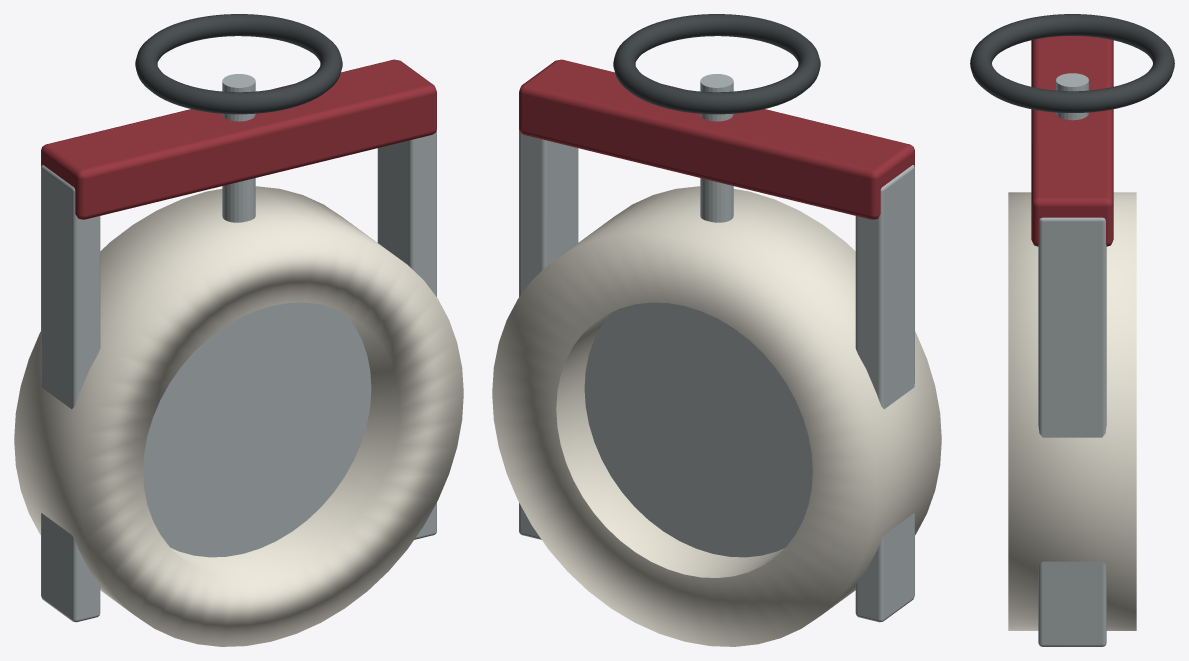
Rendered from pneumatic-tube-mail-exchange-pneumatic-tube-mail-excha-b804a7b2__32283.glb.
3 renders of one model, left to right at view 1: azimuth 30°, elevation 25°; view 2: azimuth 150°, elevation 25°; view 3: azimuth 270°, elevation 25°, orthographic.
Parts seen in each view (by area): view 1: pneumatic-tube-mail-exchange-tube-end-isolation-shutter; view 2: pneumatic-tube-mail-exchange-tube-end-isolation-shutter; view 3: pneumatic-tube-mail-exchange-tube-end-isolation-shutter.
Boxes of the visible parts, bbox=[...] form: pneumatic-tube-mail-exchange-tube-end-isolation-shutter: bbox=[14, 14, 463, 646]; pneumatic-tube-mail-exchange-tube-end-isolation-shutter: bbox=[492, 14, 941, 646]; pneumatic-tube-mail-exchange-tube-end-isolation-shutter: bbox=[970, 14, 1174, 646].
Bounding box in the file's own units: 0.48 × 0.672 × 0.224.
